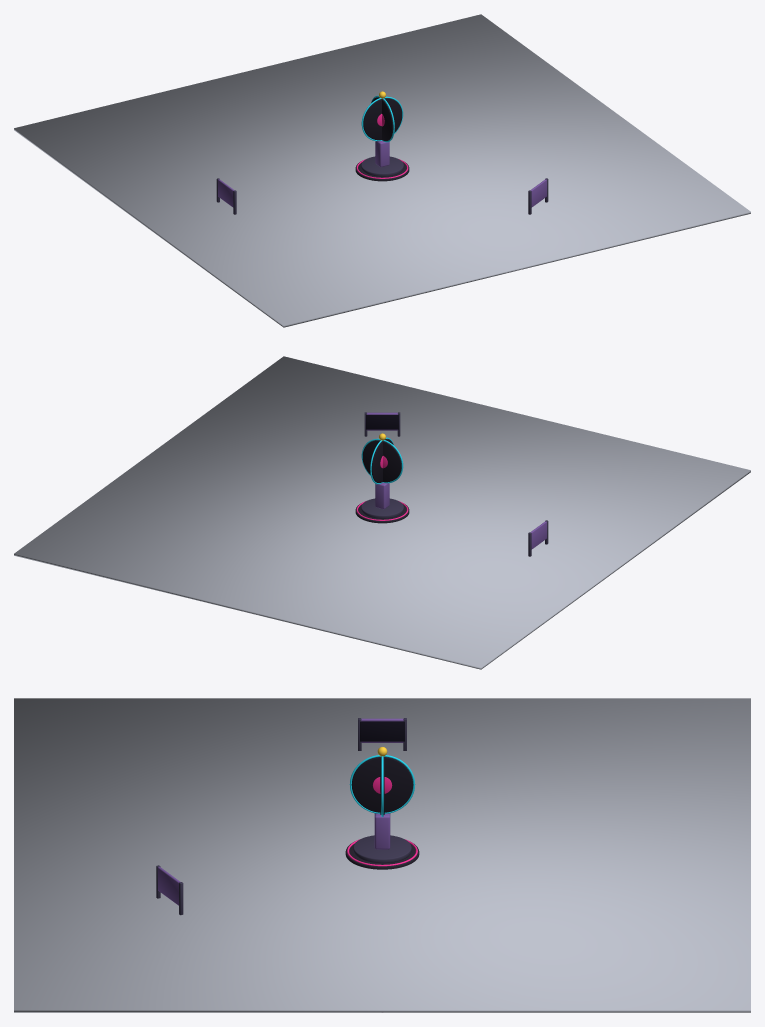
File: Plaza.fbx
The picture shows the model from 3 angles, top to bottom: view 1: azimuth 30°, elevation 25°; view 2: azimuth 150°, elevation 25°; view 3: azimuth 270°, elevation 25°; orthographic projection. The views are drawn at different scales.
Visible parts, largest first — view 1: Root, Cone, Purple, Body; view 2: Root, Cone, Body, Purple; view 3: Root, Cone, Body, Purple, Led, Neon_Cyan, Dark.
Part boxes in pixels (x1,y1,x2,y2): Root: (14, 14, 750, 327); Cone: (363, 97, 402, 140); Purple: (218, 140, 546, 207); Body: (216, 156, 548, 214); Root: (14, 356, 750, 669); Cone: (362, 439, 401, 482); Body: (361, 412, 548, 556); Purple: (367, 412, 546, 549); Root: (14, 698, 750, 1012); Cone: (351, 757, 413, 814); Body: (156, 718, 411, 915); Purple: (158, 718, 403, 905); Led: (360, 721, 404, 741); Neon_Cyan: (349, 755, 415, 816); Dark: (345, 843, 419, 869).
Bounding box in the file's own units: 240 × 39.4 × 240.
